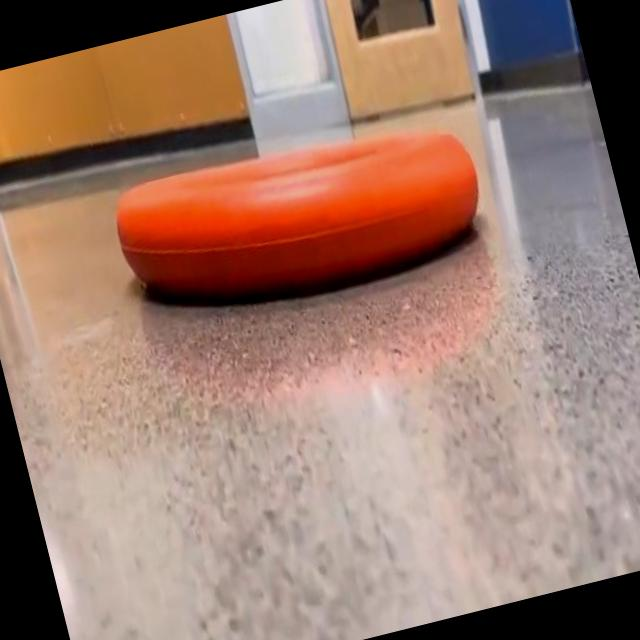note: (117, 131, 477, 296)
